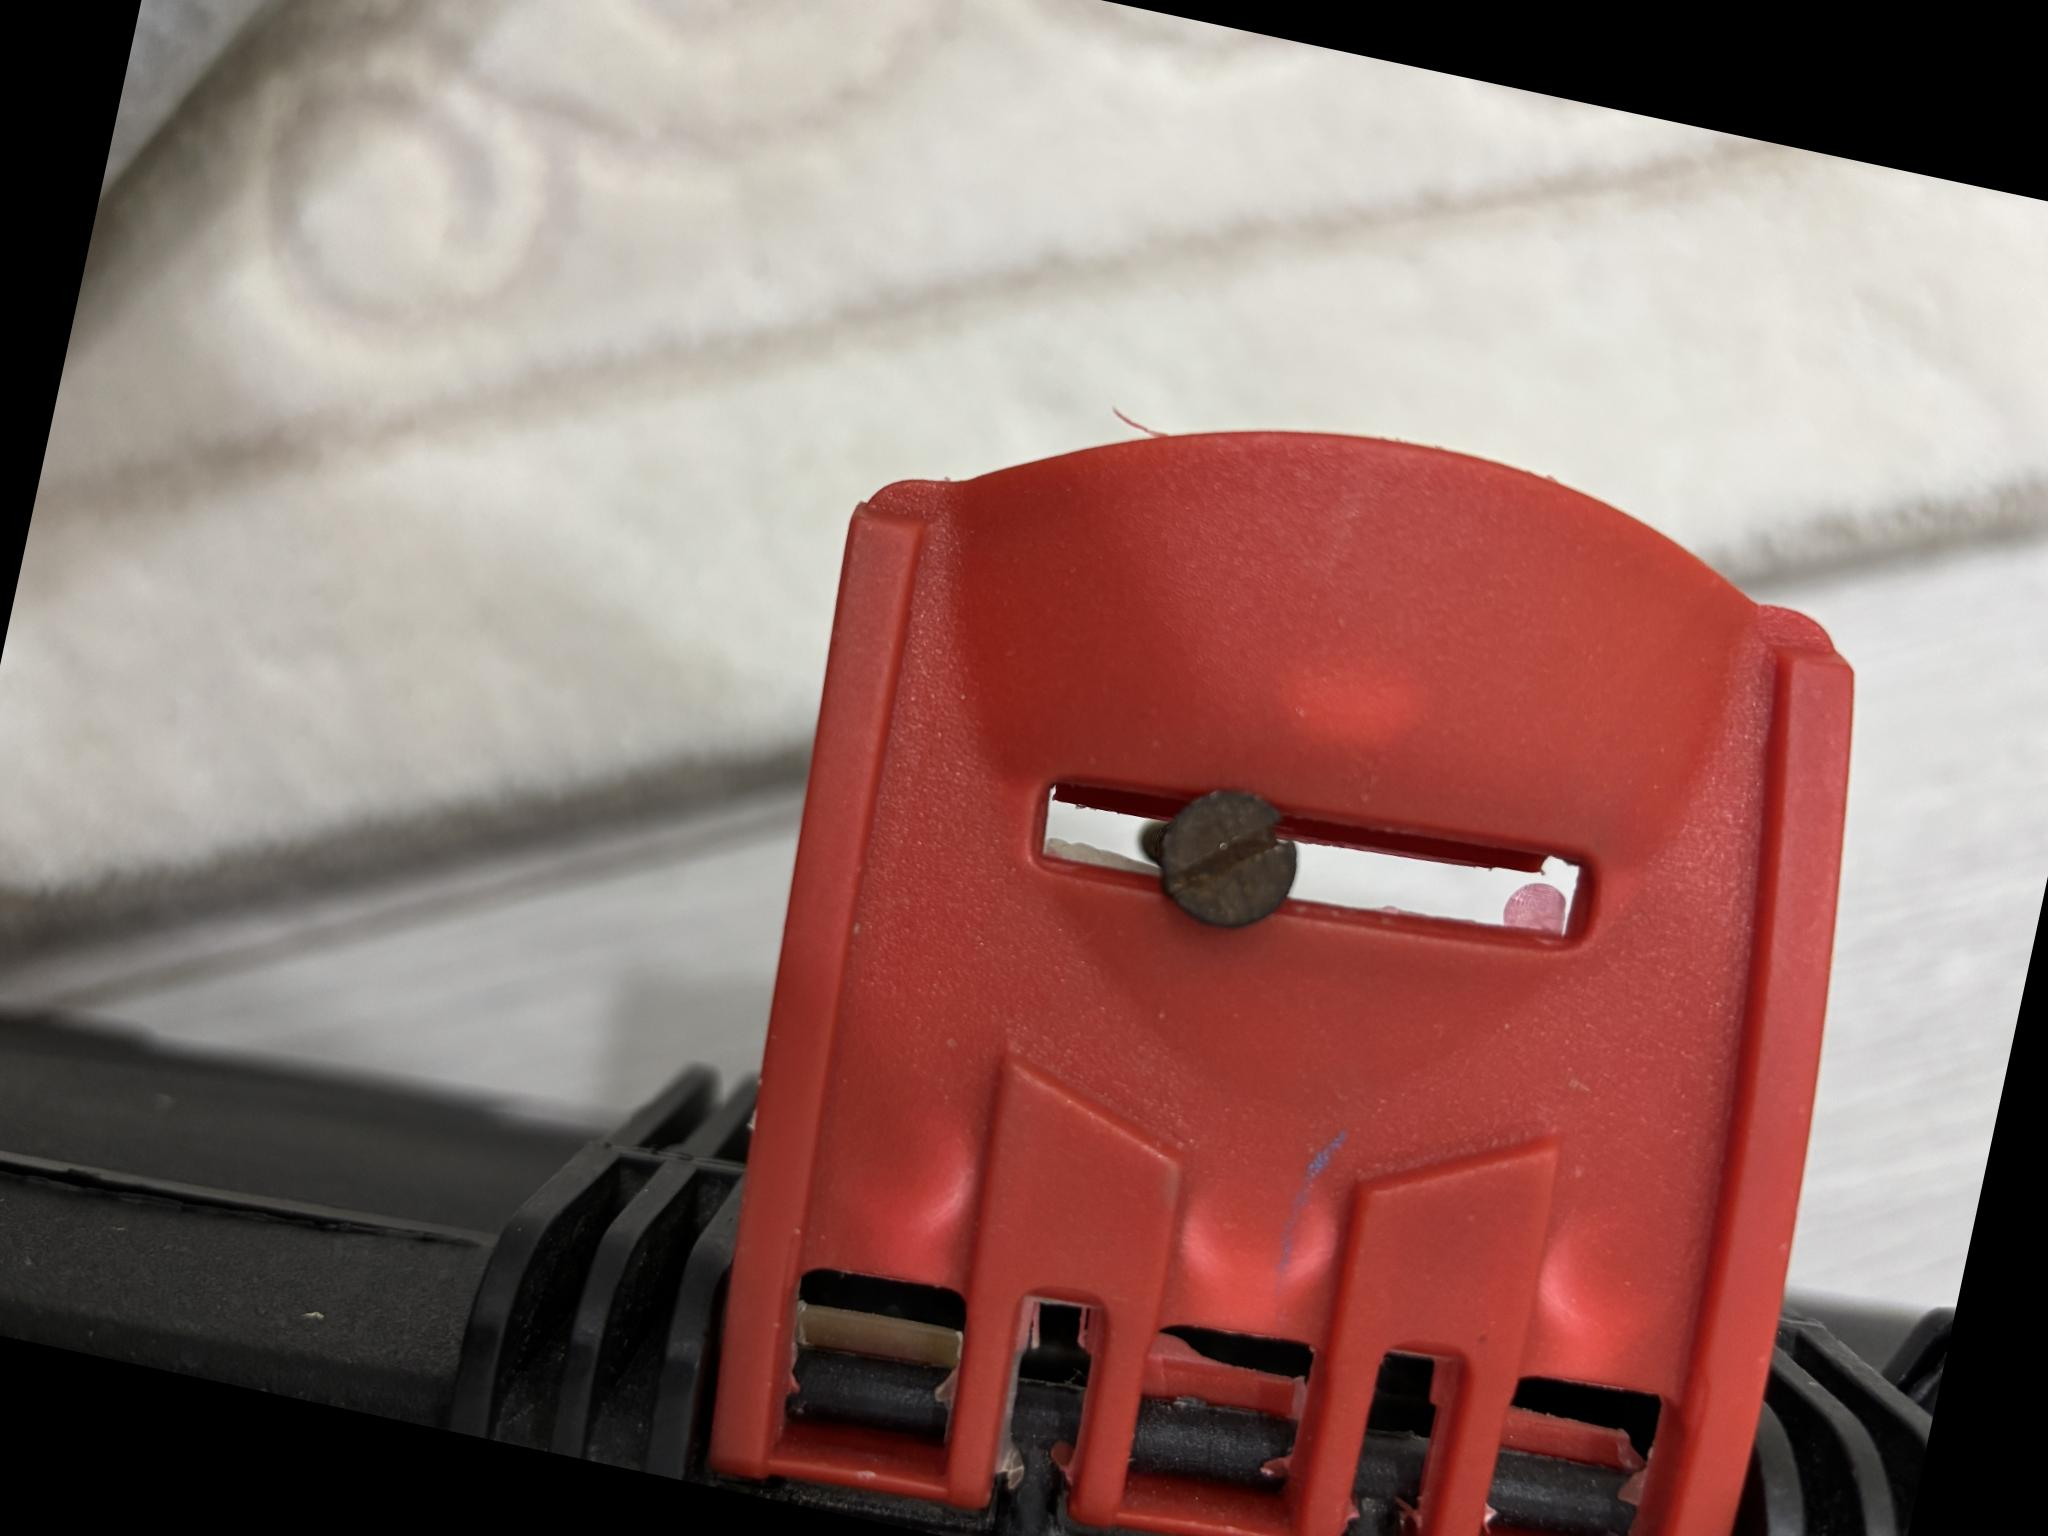SL: (1243, 800, 1380, 949)
